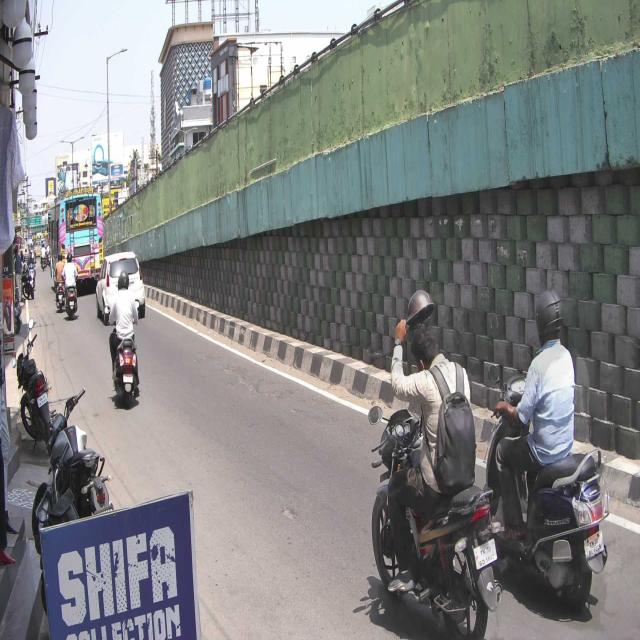single_rider: (371, 287, 493, 640), (498, 288, 608, 617)
